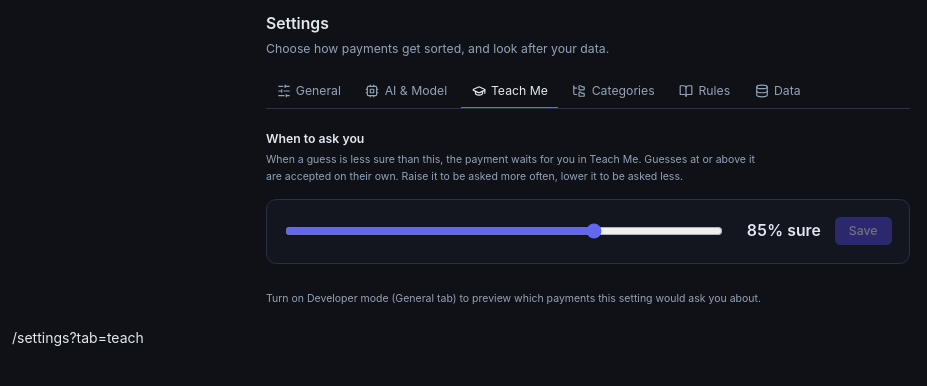
Scenario: Settings › words the slider and the unsaved hint for a person, with no preview outside developer mode
This screenshot has width=927, height=386.
Set the slider named "Ask you about guesses less sure than this" to "0.7" at [465, 231], box [284,223,723,239]
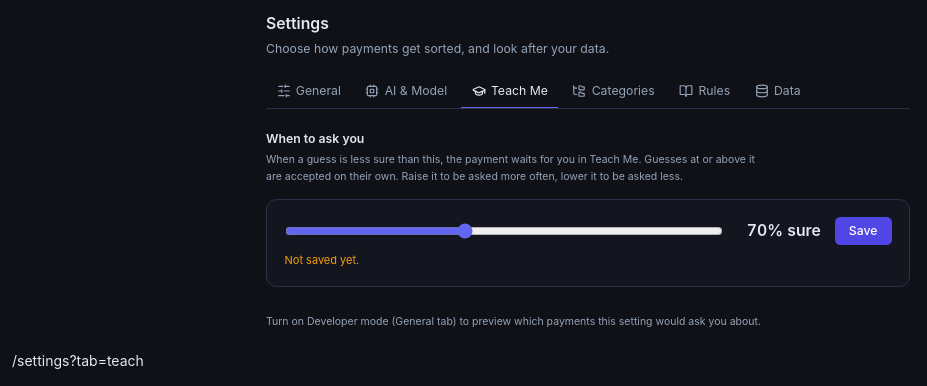
Expected: the text "Not saved yet." is shown, [284,253,359,267]
